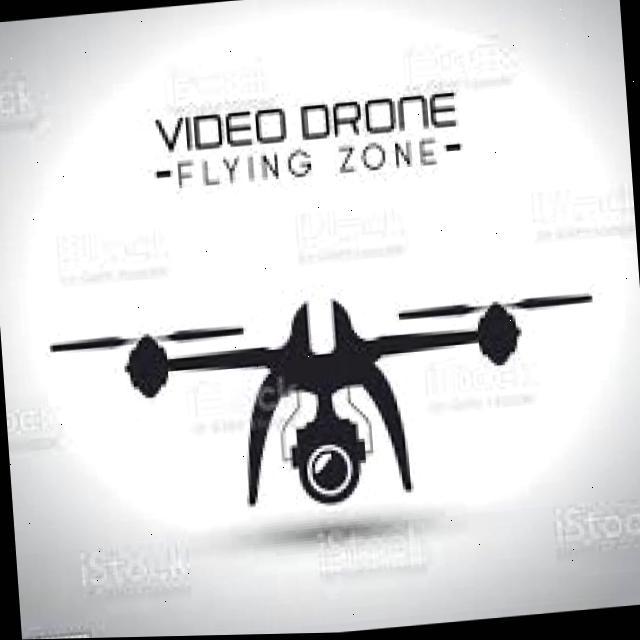drone: (29, 225, 612, 542)
